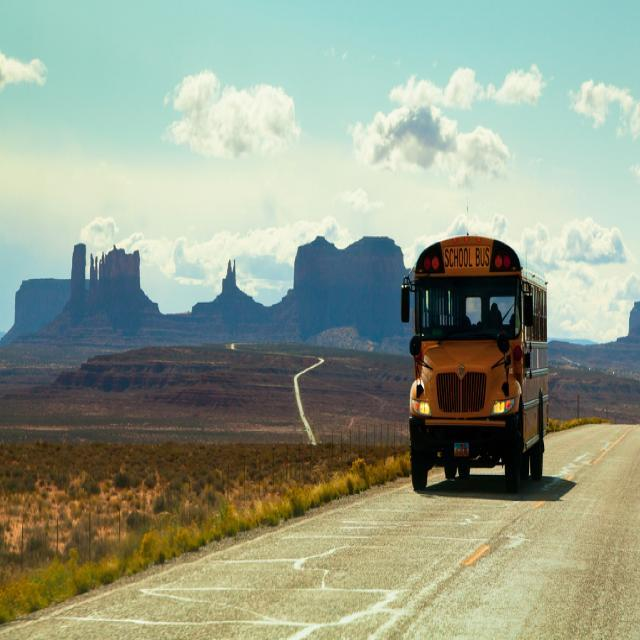motorcycle: (398, 229, 551, 494)
